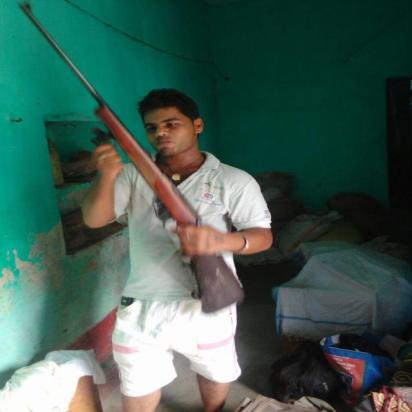Gun: (15, 0, 249, 317)
